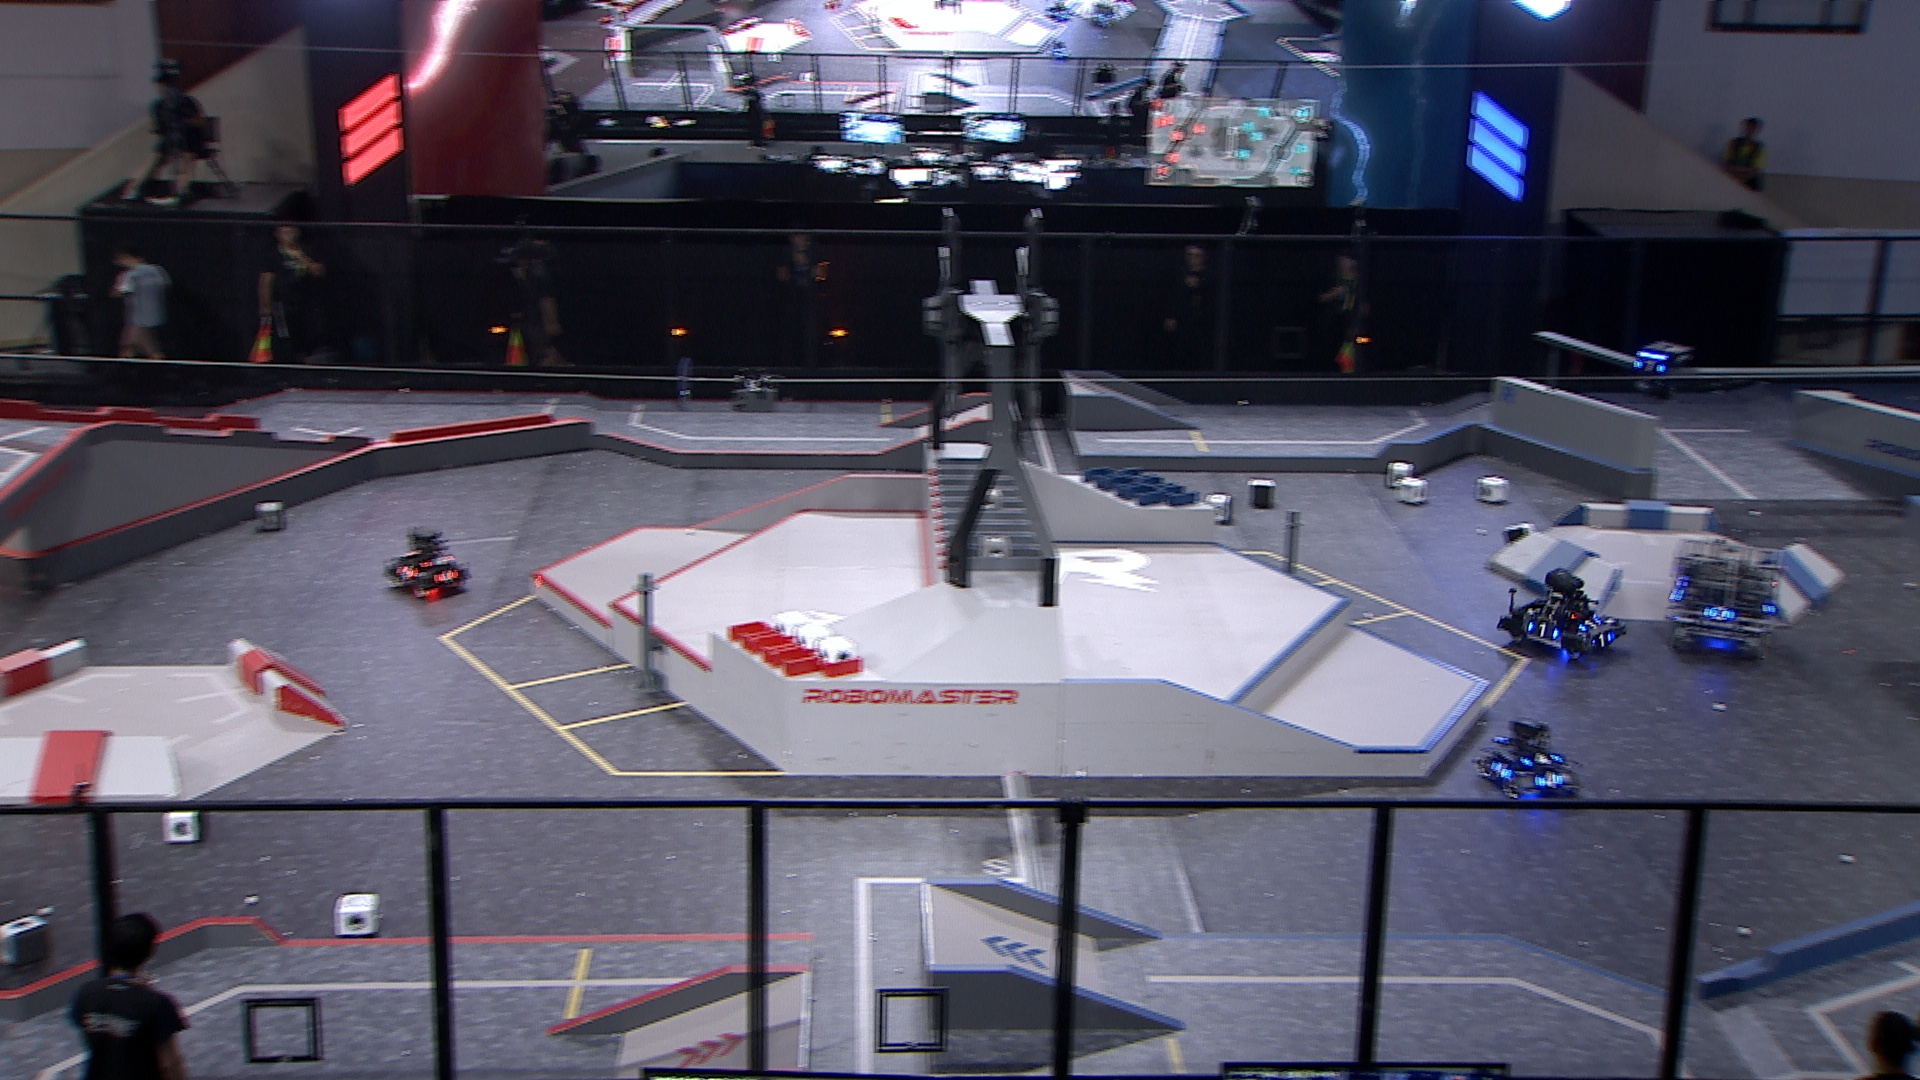armor: (1633, 356, 1665, 376), (1538, 767, 1564, 789), (1490, 760, 1510, 785), (1527, 621, 1557, 637), (1704, 604, 1731, 621), (425, 551, 452, 567), (1523, 752, 1556, 765), (433, 566, 458, 582), (1590, 633, 1617, 647), (400, 560, 417, 580), (1580, 616, 1600, 632)
car: (1662, 531, 1789, 650), (1495, 567, 1623, 662), (1470, 717, 1578, 806), (381, 527, 469, 599)
ignore: (1046, 40, 1073, 62)
watcher: (1626, 338, 1691, 401)
